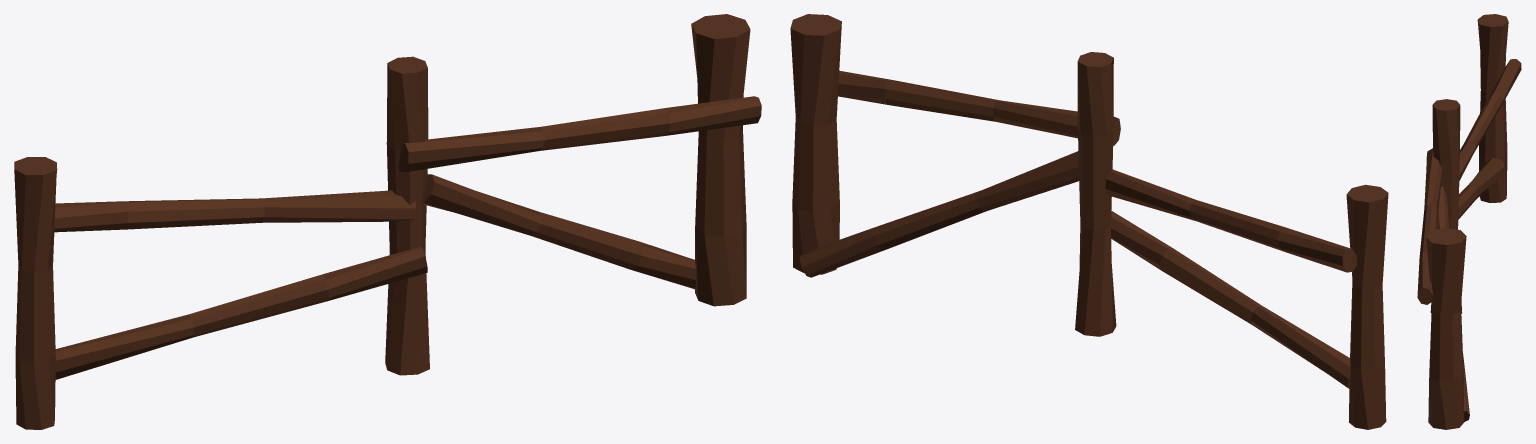
The model's file is Fence_1.fbx.
The picture shows the model from 3 angles, left to right: view 1: azimuth 30°, elevation 25°; view 2: azimuth 150°, elevation 25°; view 3: azimuth 270°, elevation 25°; orthographic projection. The views are drawn at different scales.
Visible parts, largest first — view 1: Fence_1; view 2: Fence_1; view 3: Fence_1.
Part boxes in pixels (x1,y1,x2,y2): Fence_1: (14, 14, 761, 429); Fence_1: (790, 14, 1388, 429); Fence_1: (1417, 14, 1521, 429).
Size of the model in its own units: 1311 by 246 by 558.
